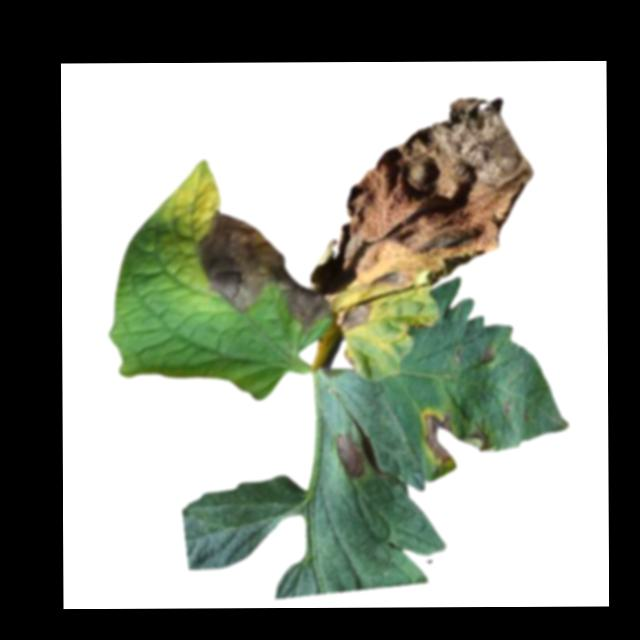Early_blight: (341, 96, 533, 290), (194, 210, 331, 328), (420, 407, 492, 465), (333, 433, 363, 478), (337, 304, 374, 332), (476, 347, 496, 368)
